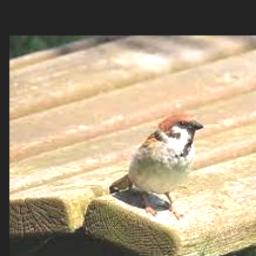Sparrow: (109, 115, 203, 219)
